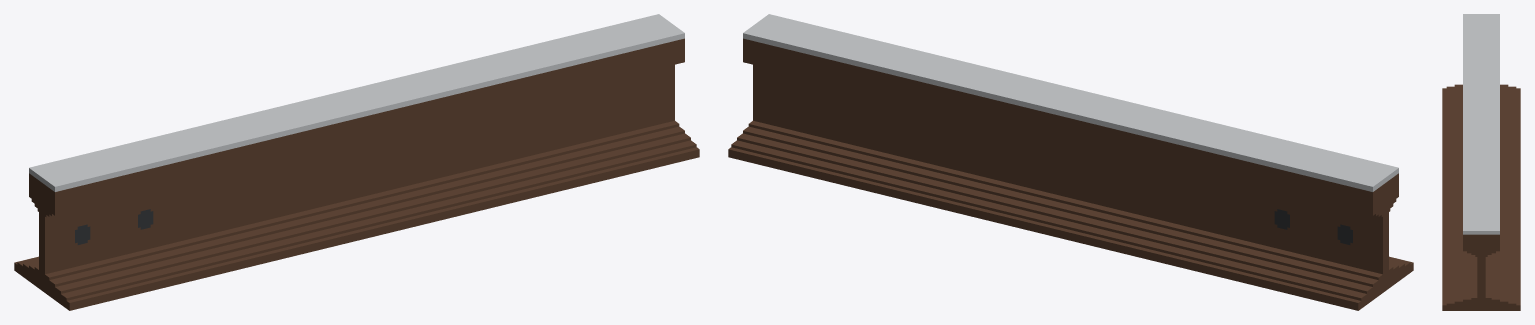
The model's file is railroad_track_item.glb.
3 views of the same model, side by side, from view 1: azimuth 30°, elevation 25°; view 2: azimuth 150°, elevation 25°; view 3: azimuth 270°, elevation 25° (orthographic). The views are drawn at different scales.
Parts seen in each view (by area): view 1: railroad_track_item:compound; view 2: railroad_track_item:compound; view 3: railroad_track_item:compound.
Part boxes in pixels (box(x1,y1,x2,y2)): railroad_track_item:compound: box(14, 14, 699, 310); railroad_track_item:compound: box(728, 14, 1413, 310); railroad_track_item:compound: box(1442, 14, 1520, 310).
Bounding box in the file's own units: 1 × 0.172 × 0.152.
